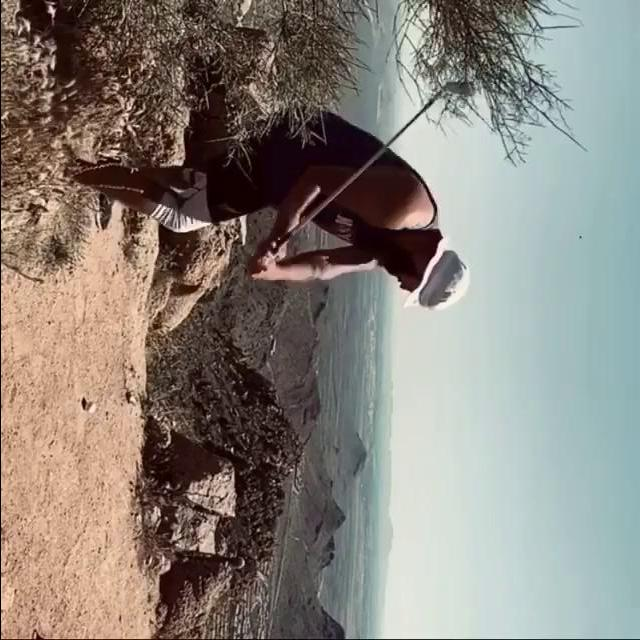ClubHandle: (269, 81, 476, 254)
ClubHead: (447, 81, 476, 95)
GolfBall: (84, 401, 95, 412)
